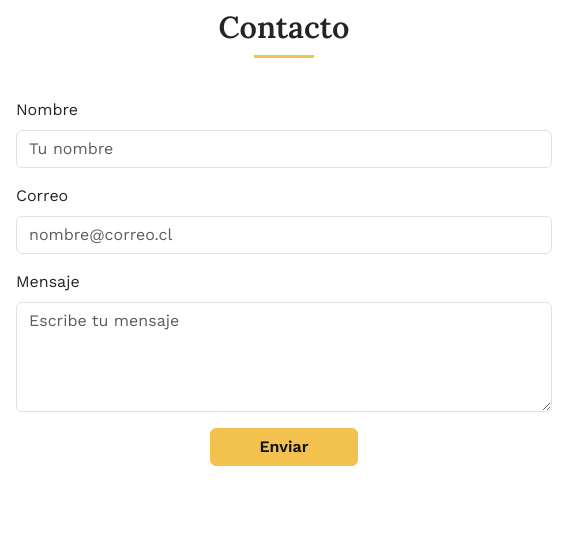
Test: Contacto › con datos válidos muestra el mensaje de éxito y limpia el formulario
The image size is (569, 557).
Type "Silvia" into the field labelled "Nombre" at (284, 148), box [16,130,552,168]
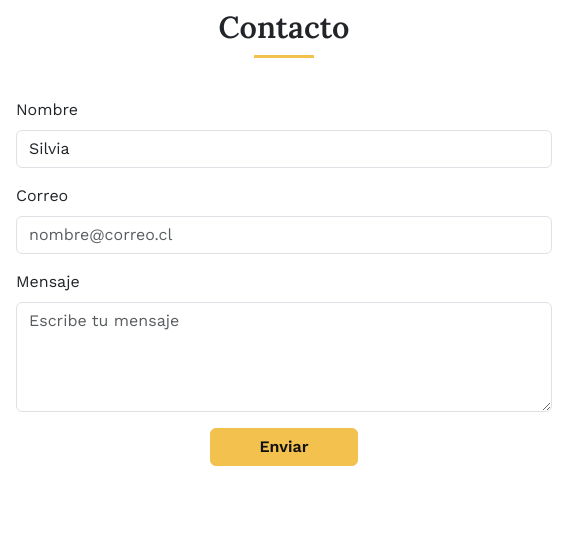
Type "silvia@duoc.cl" into the field labelled "Correo" at (284, 234), box [16,216,552,254]
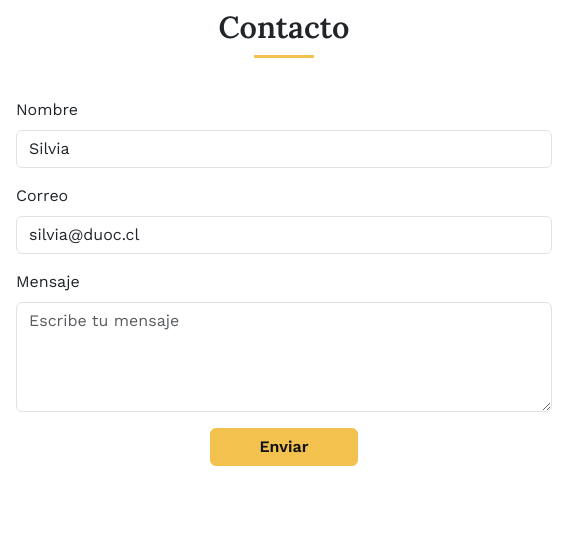
Type "Hola, este es un mensaje de prueba" into the text box labelled "Mensaje" at (284, 356), box [16,302,552,412]
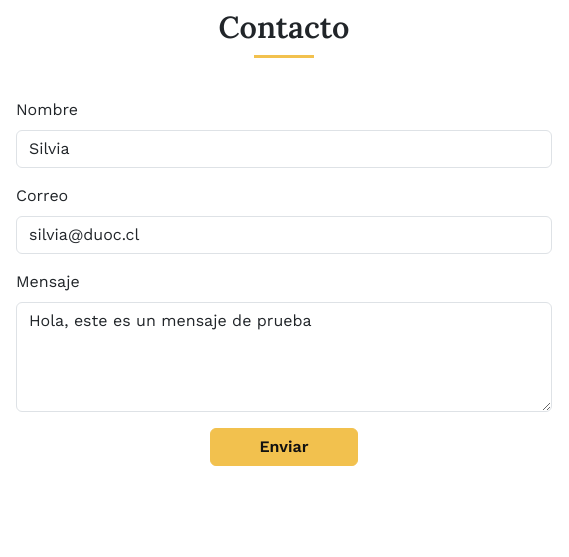
Click the button "Enviar" at (284, 446), box [210,428,358,466]
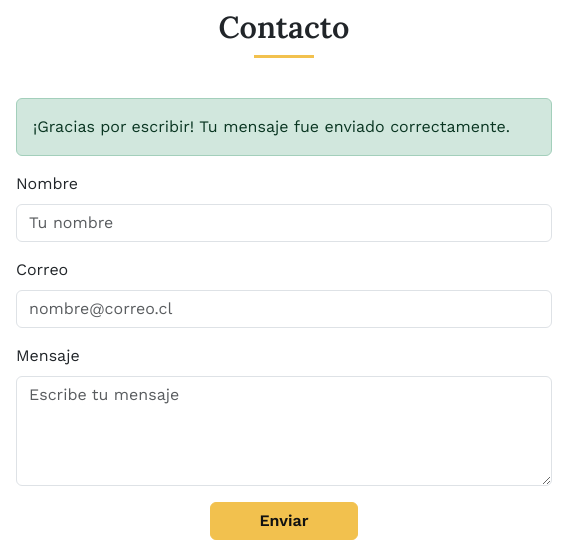
Result: the text "¡Gracias por escribir! Tu mensaje fue enviado correctamente." is shown at [16,98,552,156]
Result: the field labelled "Nombre" is empty at [16,204,552,242]
